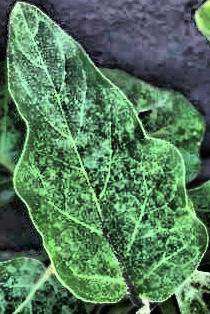HEALTHY: (1, 1, 210, 314)
